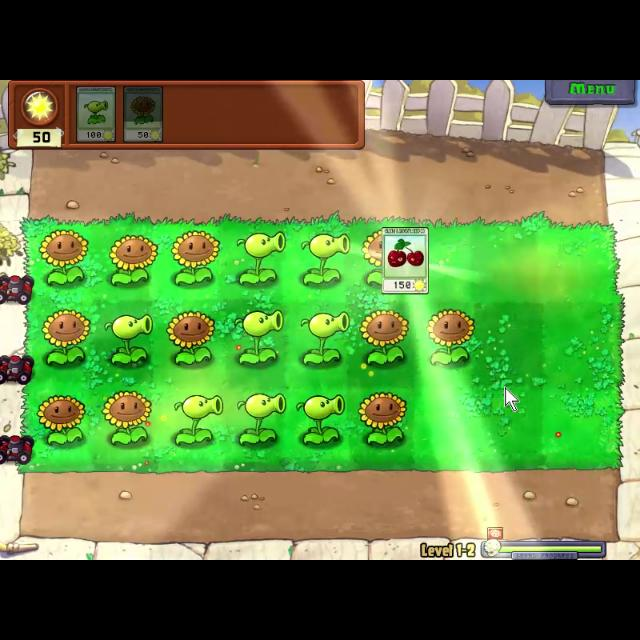Garden: (19, 215, 624, 473)
Menu Button: (542, 80, 636, 106)
Mower: (0, 272, 38, 308), (0, 351, 38, 385), (0, 430, 34, 468)
Peashooter: (77, 86, 116, 142)
Peashooter Seed: (100, 308, 156, 368), (234, 230, 290, 288), (233, 392, 289, 448), (294, 389, 350, 445), (166, 392, 224, 444), (234, 309, 284, 366), (299, 227, 347, 285), (300, 314, 350, 366)
Seed Panel: (4, 80, 366, 152)
Sunflower: (122, 85, 164, 143)
Sunflower Seed: (98, 387, 156, 449), (424, 308, 476, 374), (163, 307, 220, 367), (35, 226, 91, 286), (32, 393, 90, 449), (355, 388, 407, 449), (105, 232, 161, 288), (41, 306, 91, 368), (357, 309, 411, 366), (170, 231, 222, 287), (359, 228, 389, 290)
